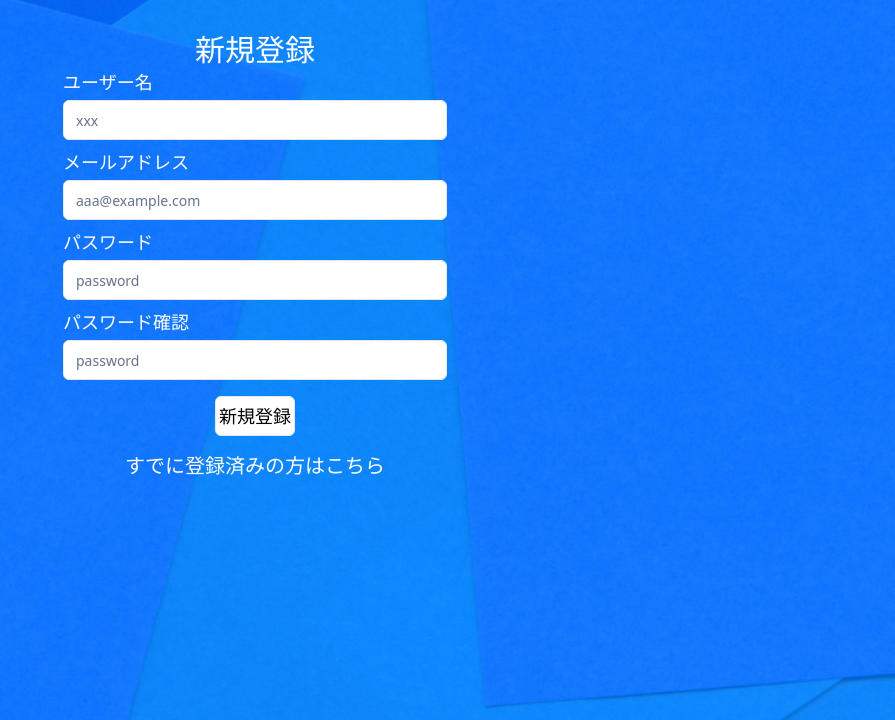
Test case: サインアップページ › APIエラー時にエラーメッセージが表示される
The image size is (895, 720).
Type "Test User" into the field labelled "ユーザー名" at (255, 120), box [63,100,447,140]
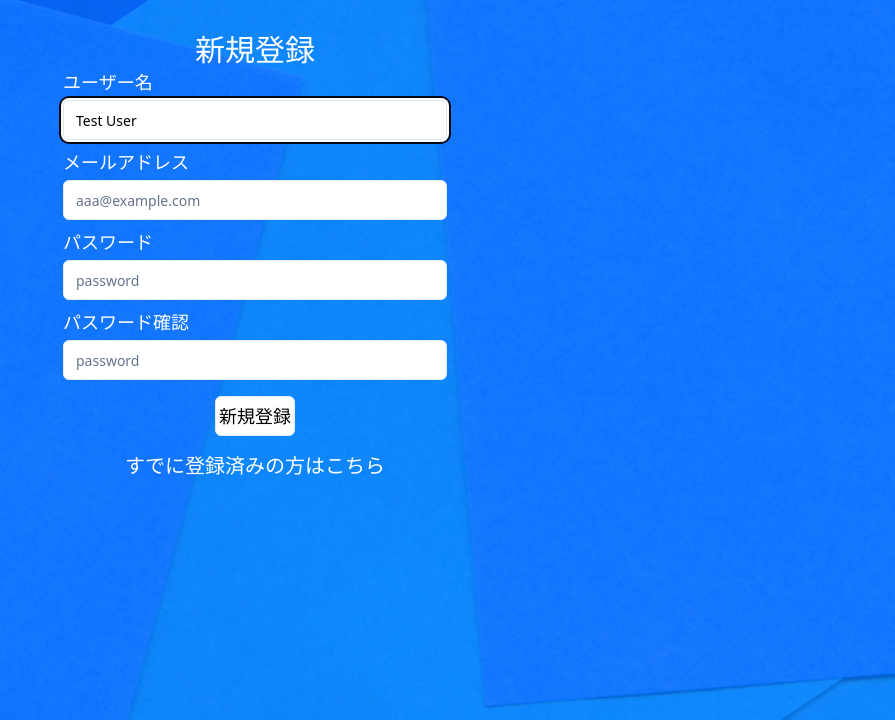
Type "test@example.com" into the field labelled "メールアドレス" at (255, 200), box [63,180,447,220]
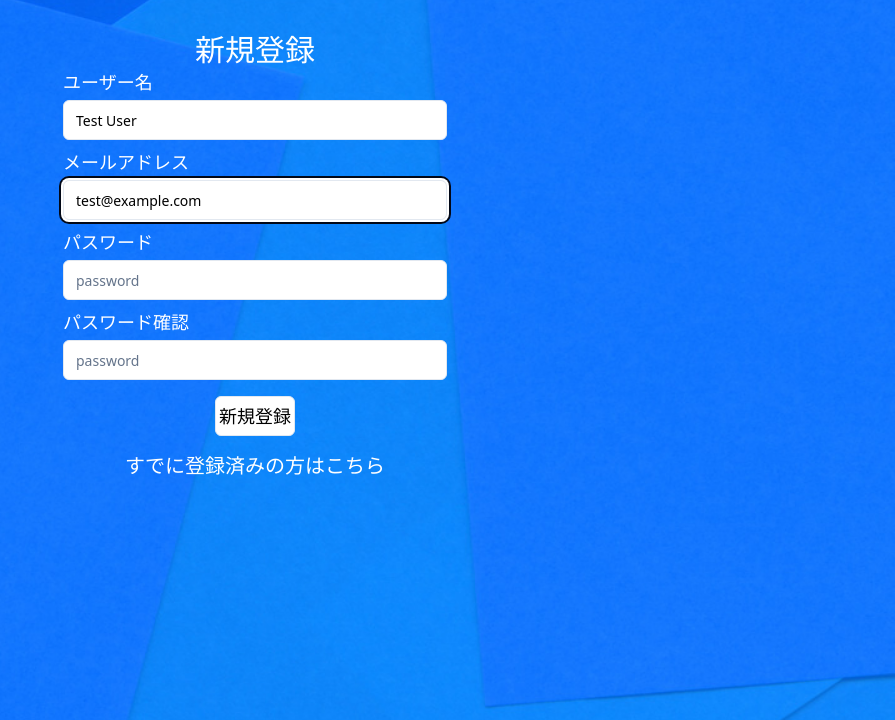
Type "password123" into the password field labelled "パスワード" at (255, 280), box [63,260,447,300]
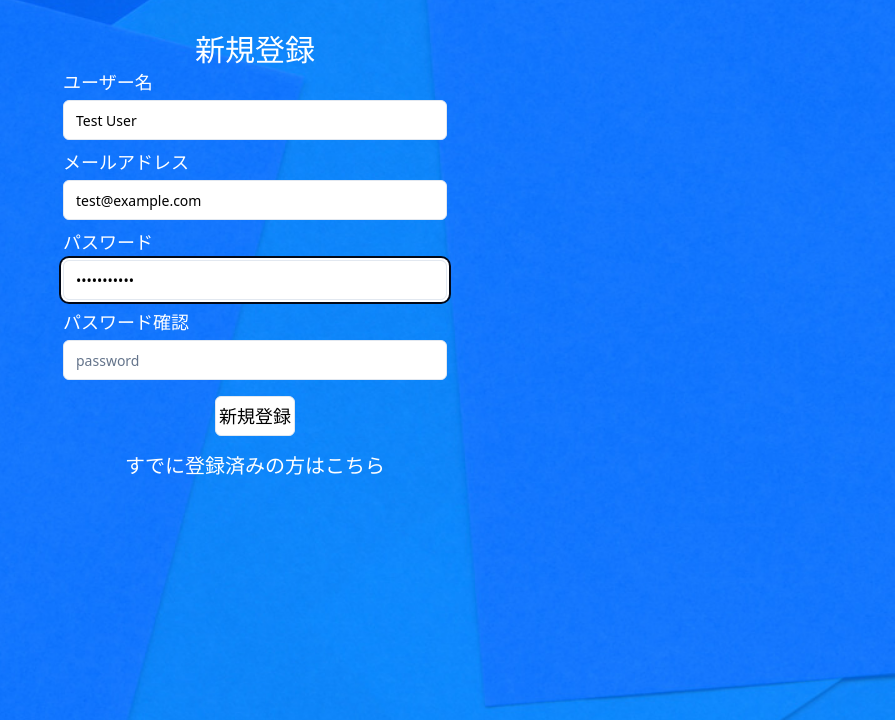
Type "password123" into the password field labelled "パスワード確認" at (255, 360), box [63,340,447,380]
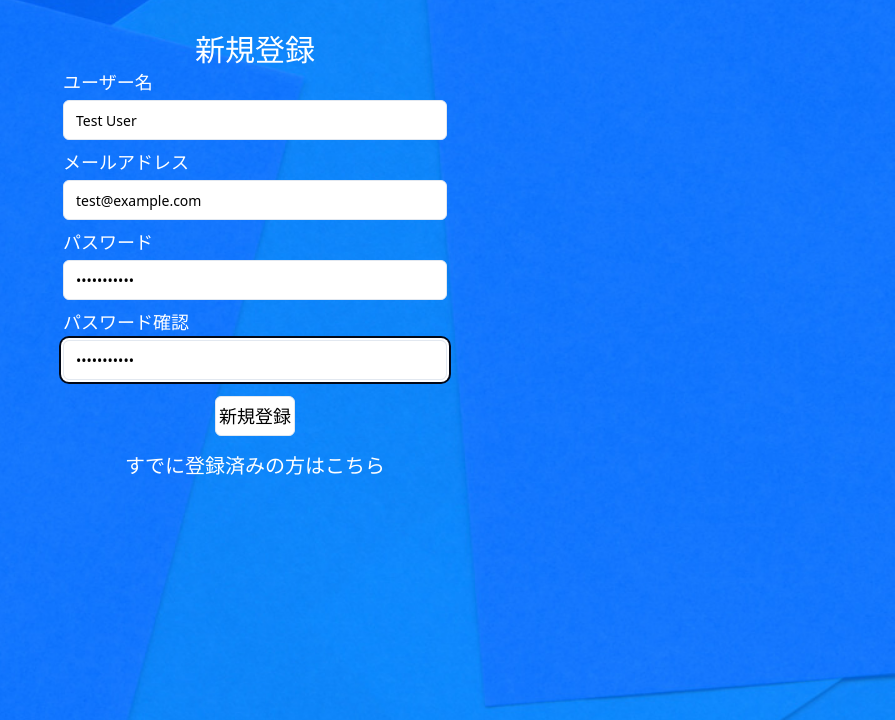
Click the button "新規登録" at (255, 416), box [215,396,295,436]
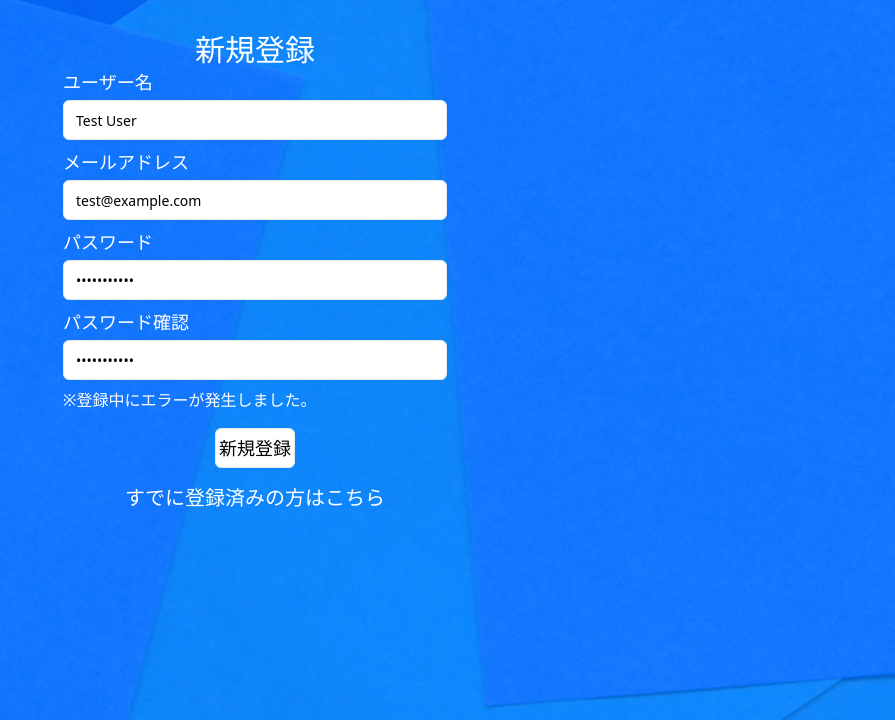
Check: the text "※登録中にエラーが発生しました。" is shown, box [63,389,316,411]
